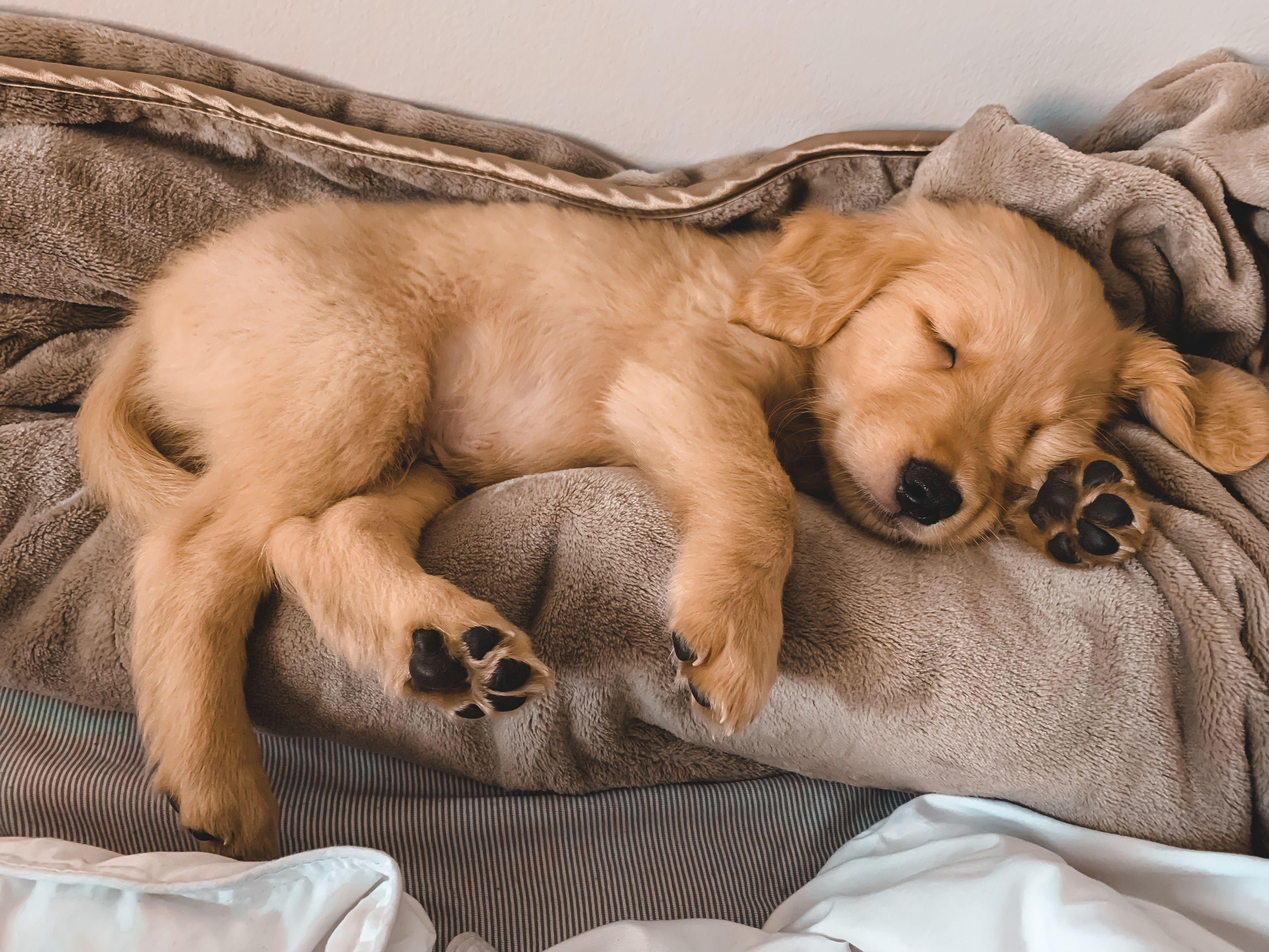puppy-dog: (70, 185, 1269, 862)
